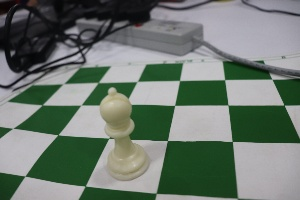white_bishop: (83, 72, 157, 189)
